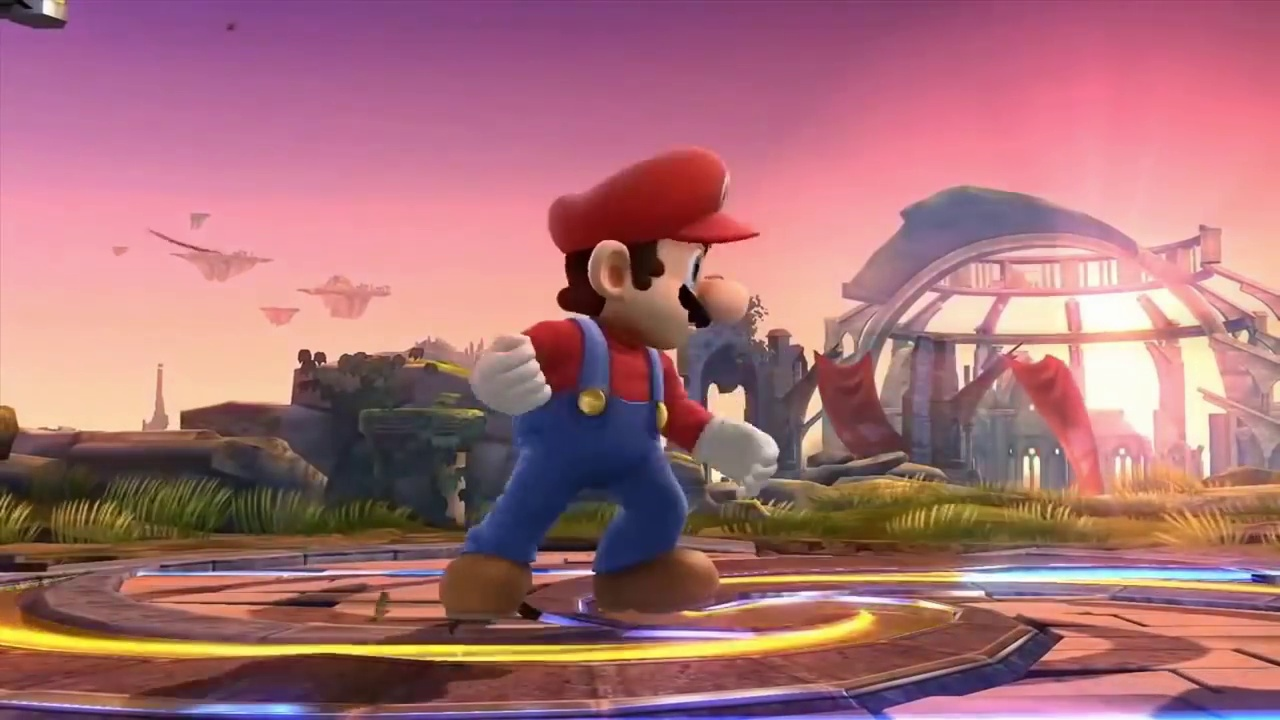Mario: (438, 148, 778, 614)
